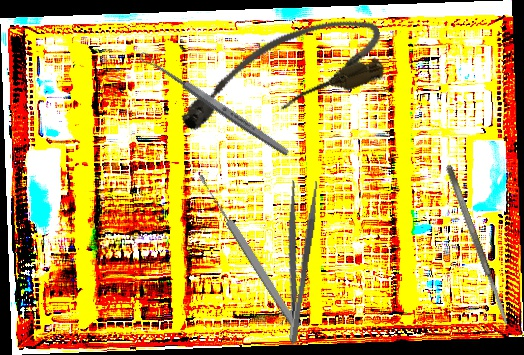Cannula: (165, 3, 395, 146)
Dressing Forceps: (271, 178, 321, 345)
Spatula Surgical: (444, 163, 511, 328)
Surgical Spoon: (195, 170, 302, 333), (137, 49, 292, 159)
